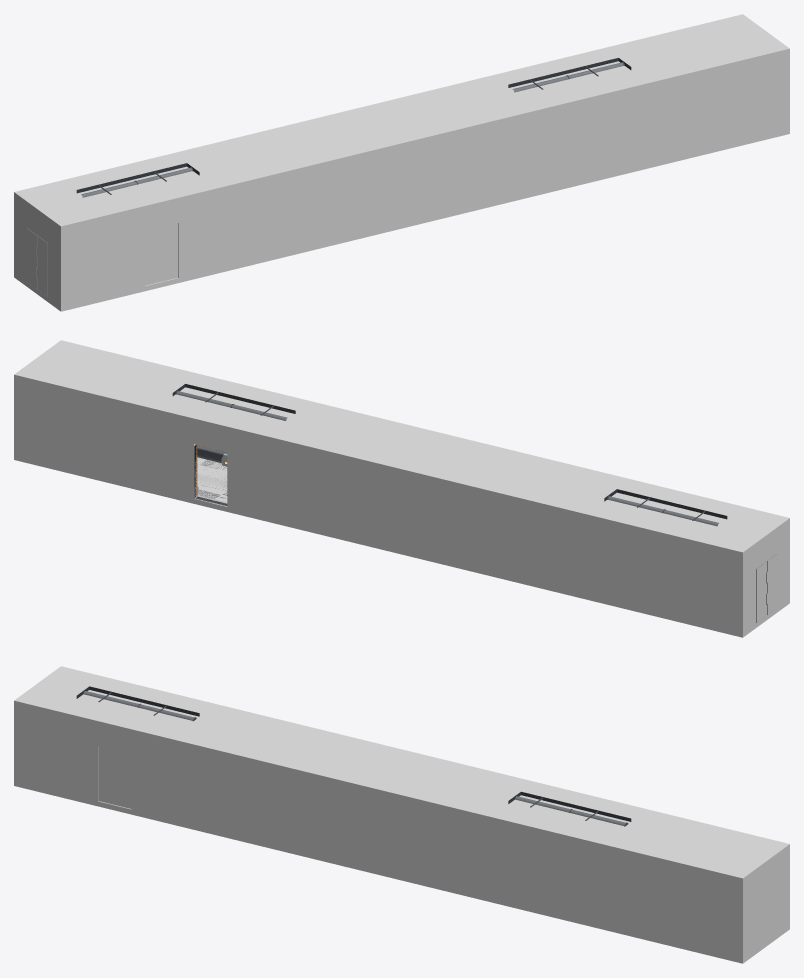
File: int_corridor.glb
3 views of the same model, one above another, from view 1: azimuth 30°, elevation 25°; view 2: azimuth 150°, elevation 25°; view 3: azimuth 330°, elevation 25° (orthographic).
Visible parts, largest first — view 1: col_walls_corridor, col_floor_corridor, shell_corridor, col_door_c2, col_door_hub; view 2: col_walls_corridor, col_floor_corridor, shell_corridor, col_door_hub; view 3: col_walls_corridor, col_floor_corridor, shell_corridor, col_door_c2.
Boxes of the visible parts, box(x1,y1,x2,y2) form: col_walls_corridor: box(14, 14, 789, 306); col_floor_corridor: box(14, 129, 789, 311); shell_corridor: box(26, 58, 631, 295); col_door_c2: box(145, 223, 177, 285); col_door_hub: box(26, 226, 48, 297); col_walls_corridor: box(14, 340, 789, 632); col_floor_corridor: box(14, 455, 789, 637); shell_corridor: box(172, 384, 777, 621); col_door_hub: box(755, 552, 777, 623); col_walls_corridor: box(14, 666, 789, 958); col_floor_corridor: box(14, 781, 789, 963); shell_corridor: box(76, 686, 772, 947); col_door_c2: box(98, 746, 131, 808).
Bounding box in the file's own units: 30.42 × 3.54 × 3.41.
25 materials, 13 textured.
